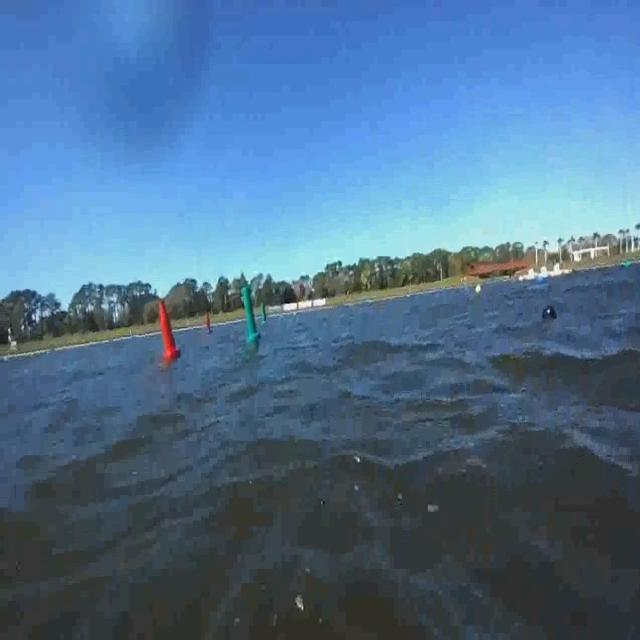blue-buoy: (539, 300, 560, 323)
green-column-buoy: (242, 286, 262, 342), (262, 300, 269, 322)
red-column-buoy: (159, 300, 182, 360), (205, 311, 213, 334)
yellow-buoy: (473, 283, 482, 297)
